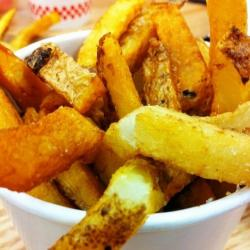fries: (11, 26, 250, 192)
